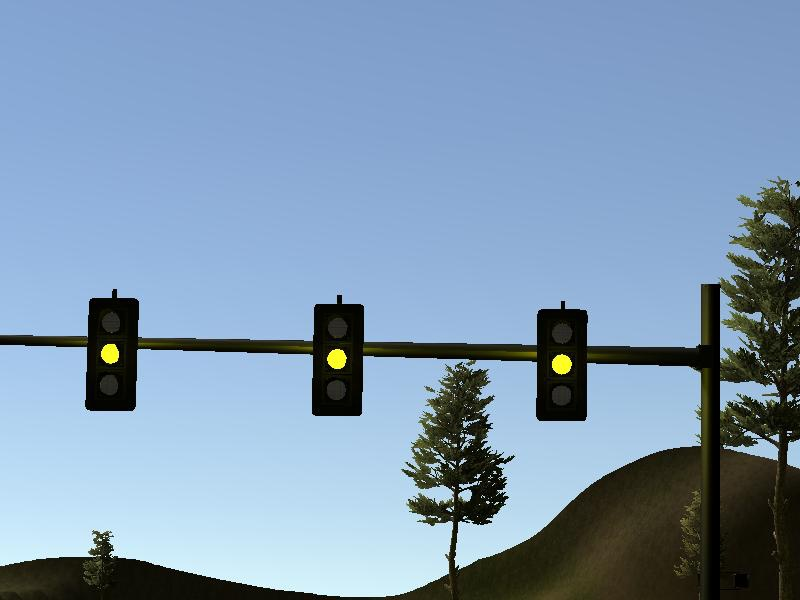yellow: (530, 300, 588, 424), (310, 292, 363, 417), (85, 291, 137, 411)
